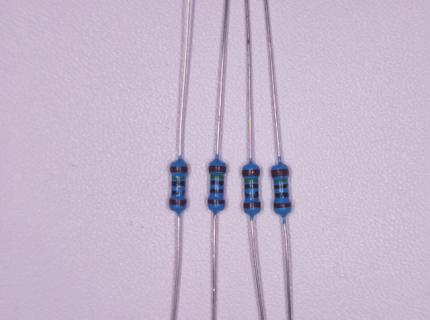Black band: (245, 191, 258, 198), (275, 192, 288, 199), (171, 190, 185, 196), (172, 181, 185, 187), (210, 180, 223, 186), (245, 184, 258, 189), (275, 184, 288, 189), (210, 189, 223, 193)
Brown band: (271, 168, 289, 177), (242, 169, 260, 176), (209, 165, 226, 172), (244, 202, 261, 209), (169, 199, 187, 205), (170, 166, 187, 172), (274, 202, 291, 208), (208, 199, 225, 204)
Green band: (245, 178, 258, 183), (172, 176, 186, 180), (274, 179, 288, 183), (211, 175, 224, 179)
